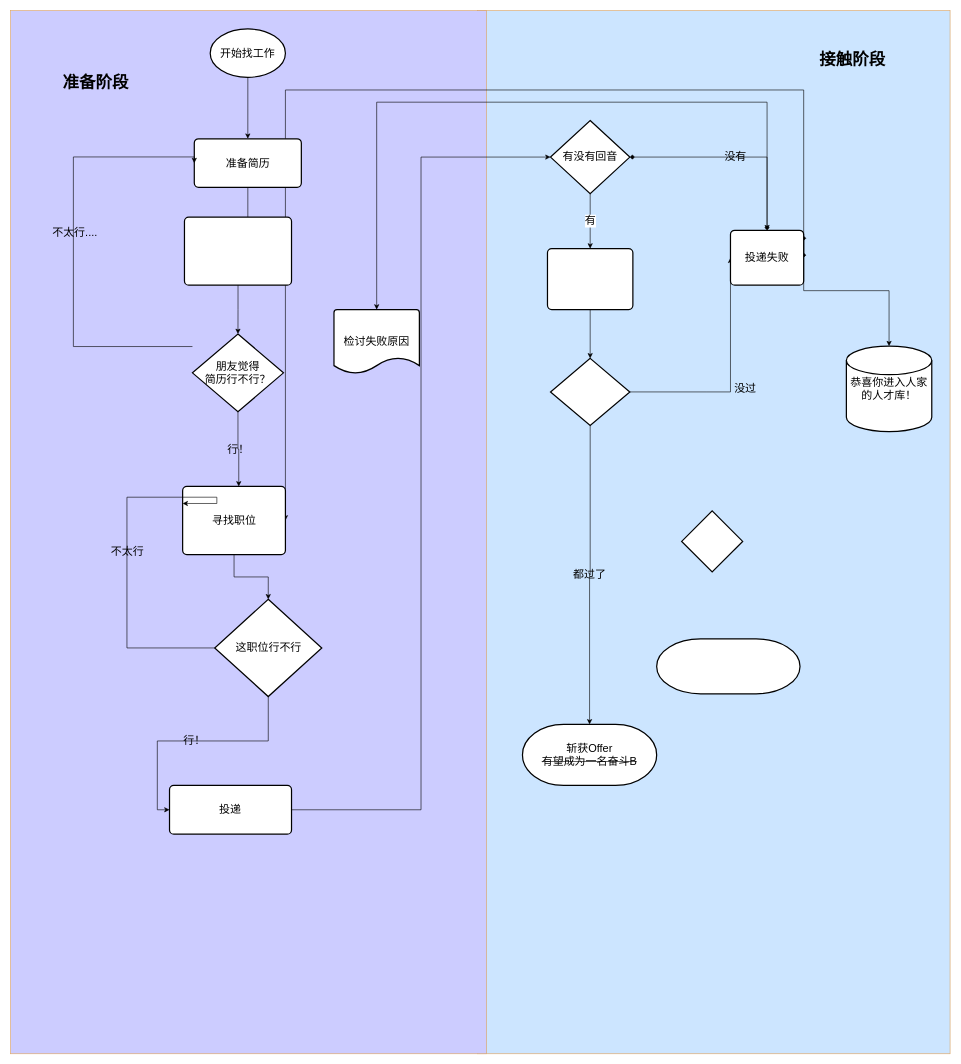
This 961x1064 diagram has some shape labels left out. The shapes that lost their labels are listed below. From the top down, each one's centre as x and y in pixels, then its label:
At point 238,250: "给朋友审核一下".
At point 590,279: "电面、一面....N面、终面".
At point 590,391: "都过了吗？".
At point 712,541: "投了200份了吗".
At point 728,666: "回去啃老，无缘建设新中国".
